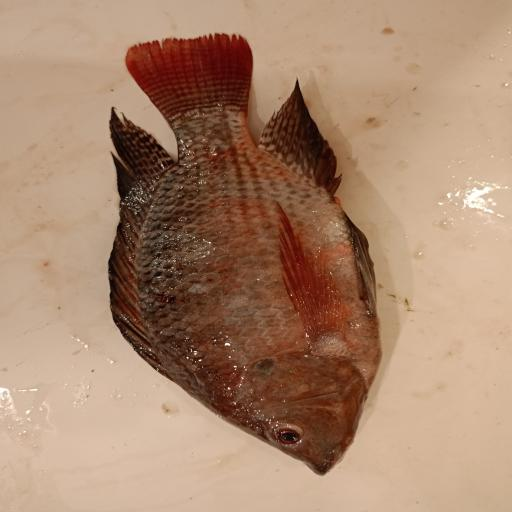Tilapia: (108, 33, 384, 477)
